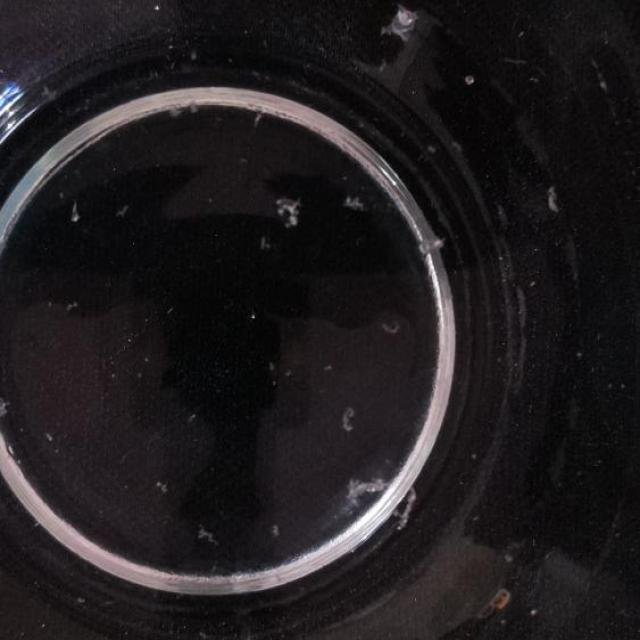fiber: (344, 470, 391, 512), (273, 189, 301, 242), (381, 8, 415, 50), (338, 398, 362, 439), (398, 488, 415, 538), (418, 235, 452, 255), (539, 178, 557, 215), (336, 190, 360, 216), (192, 524, 221, 542), (457, 69, 477, 95), (68, 191, 82, 225), (183, 100, 202, 119), (148, 0, 165, 21), (0, 396, 13, 423), (66, 296, 84, 312), (114, 199, 130, 216), (170, 98, 180, 118)
